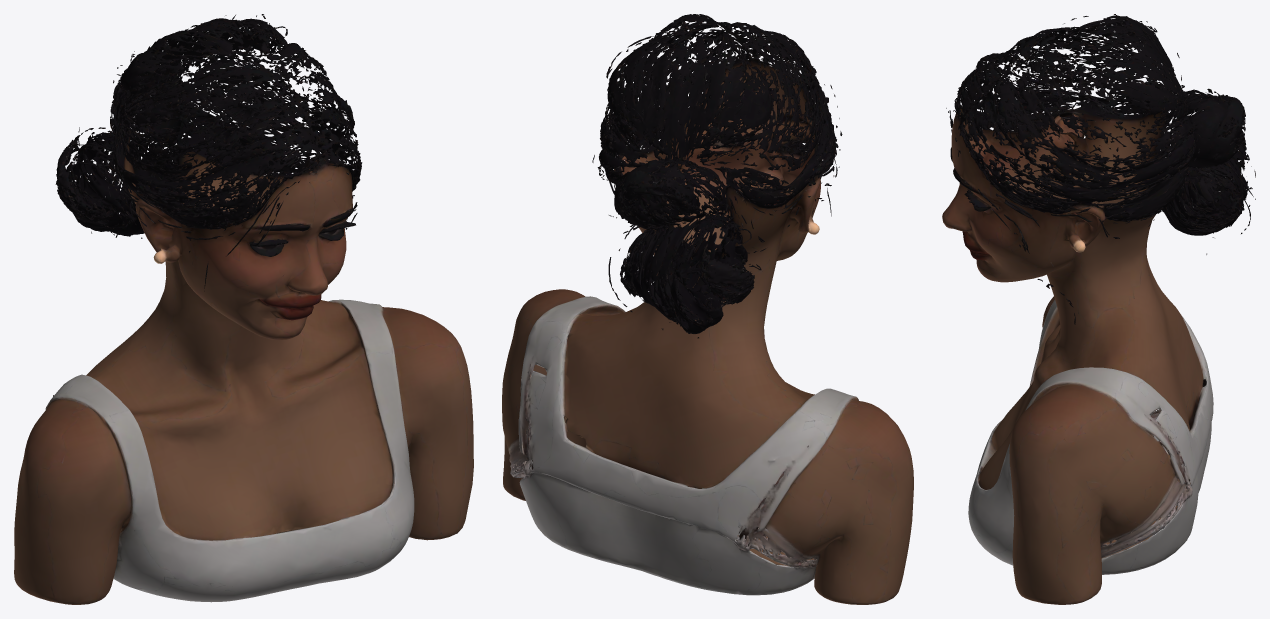
File: woman.glb
3 renders of one model, left to right at view 1: azimuth 30°, elevation 25°; view 2: azimuth 150°, elevation 25°; view 3: azimuth 270°, elevation 25°, orthographic. The views are drawn at different scales.
Visible parts, largest first — view 1: world; view 2: world; view 3: world.
Part boxes in pixels (box(x1,y1,x2,y2)): world: box(14, 14, 473, 604); world: box(502, 14, 913, 604); world: box(942, 14, 1255, 604).
Size of the model in its own units: 0.8382 by 0.9942 by 0.5817.
Materials: 1 (1 with a texture image).
